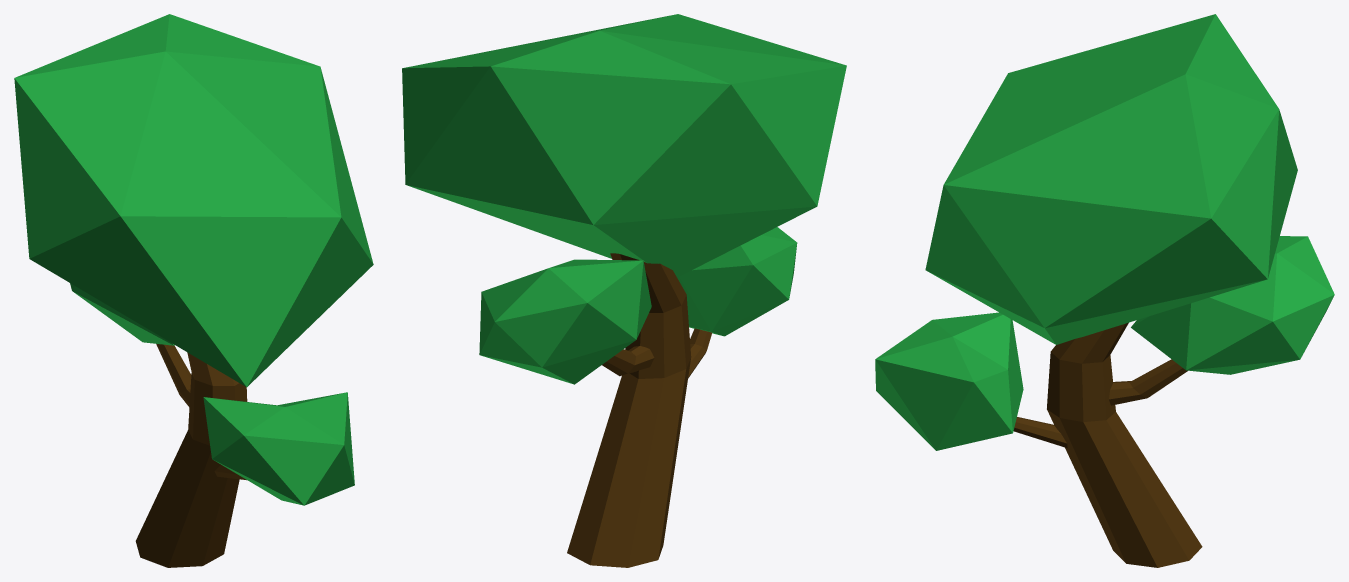
Rendered from tree005.fbx.
3 views of the same model, side by side, from view 1: azimuth 30°, elevation 25°; view 2: azimuth 150°, elevation 25°; view 3: azimuth 270°, elevation 25° (orthographic). The views are drawn at different scales.
Parts seen in each view (by area): view 1: Icosphere.003; view 2: Icosphere.003; view 3: Icosphere.003.
Part boxes in pixels (box(x1,y1,x2,y2)): Icosphere.003: box(14, 14, 373, 567); Icosphere.003: box(402, 14, 846, 567); Icosphere.003: box(875, 14, 1334, 567).
Bounding box in the file's own units: 848 × 1175 × 1028.
